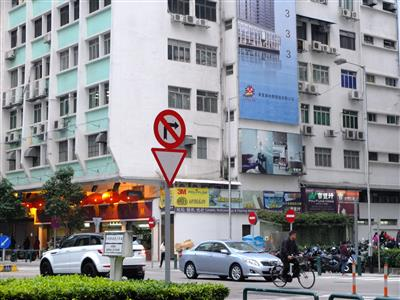keepLeft: (1, 235, 10, 249)
noEntry: (284, 208, 295, 223), (247, 210, 257, 225), (147, 216, 155, 227)
noRightTurn: (151, 108, 186, 149)
noStopping: (49, 218, 60, 230)
yield: (149, 146, 188, 187)
